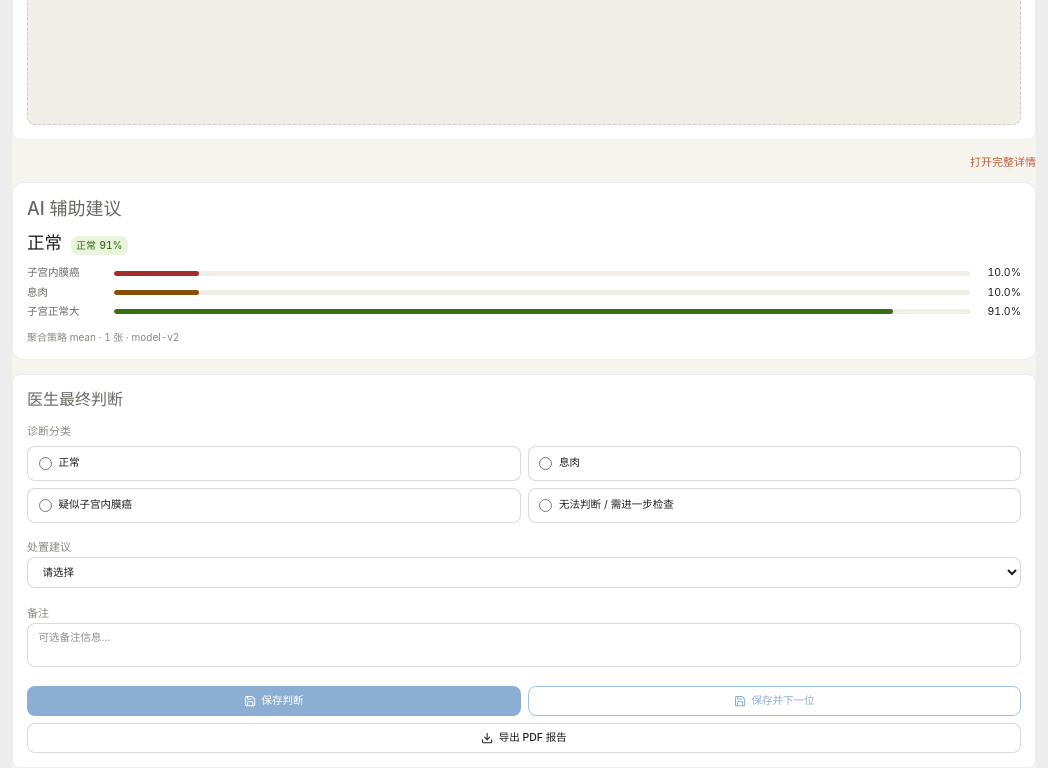
Test: BatchDetail continuous diagnosis workflow › stays on the last eligible patient while the running batch still has pending predictions
(page scrolled)
Click the radio button labelled "正常" at (45, 463), box [38, 457, 52, 470]
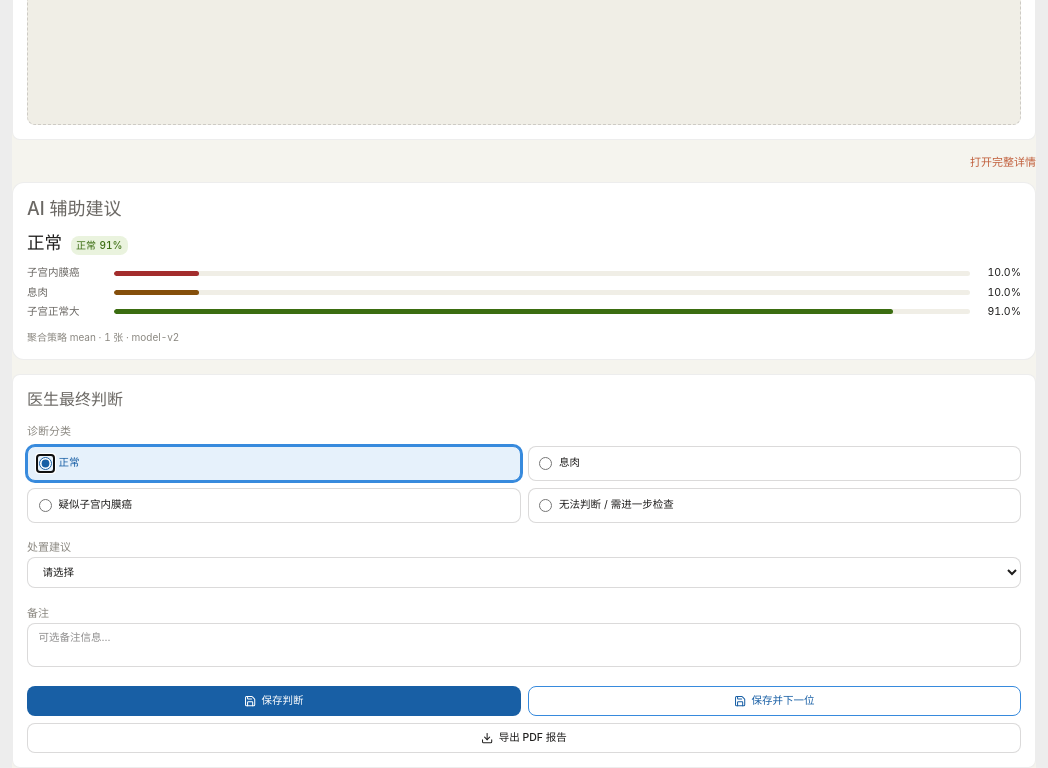
Click the button "保存并下一位" at (774, 701), box [528, 686, 1021, 716]
(page scrolled)
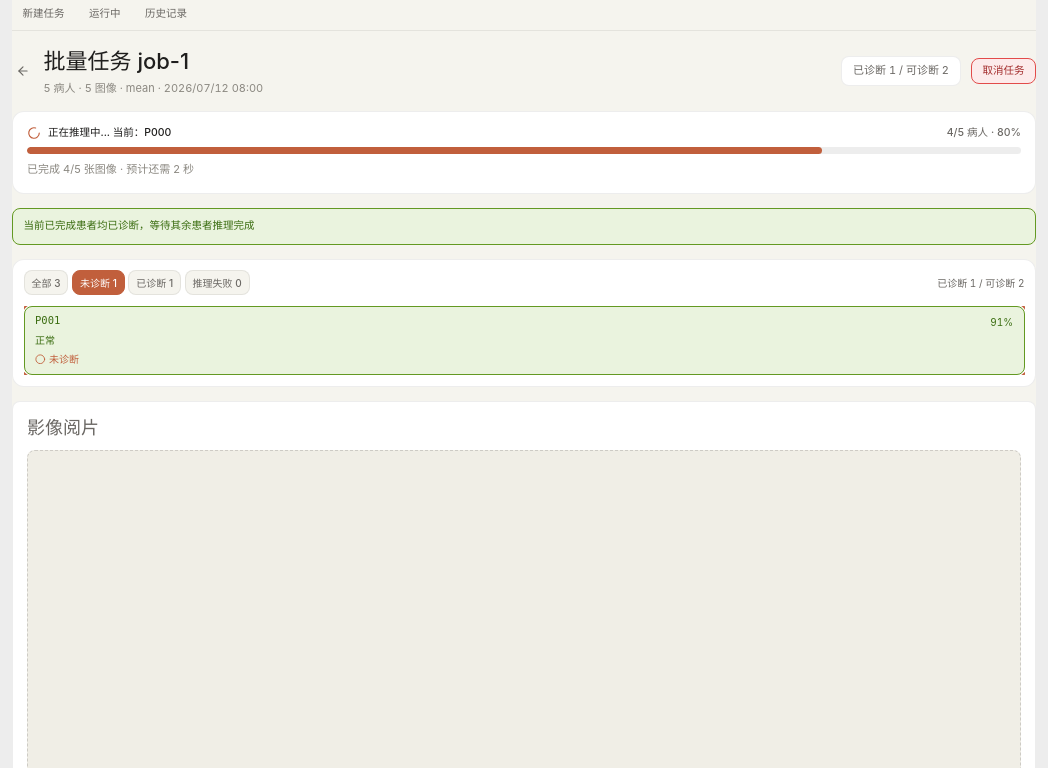
Expected: the text "当前已完成患者均已诊断，等待其余患者推理完成" is shown, [12, 208, 1036, 245]
